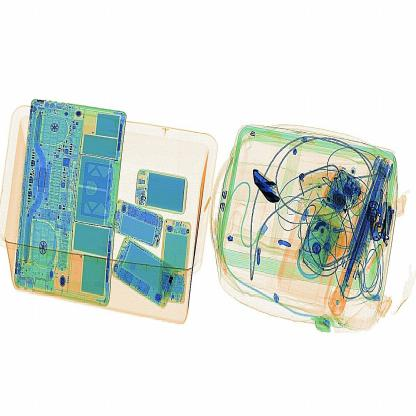pliers: (247, 166, 290, 212)
